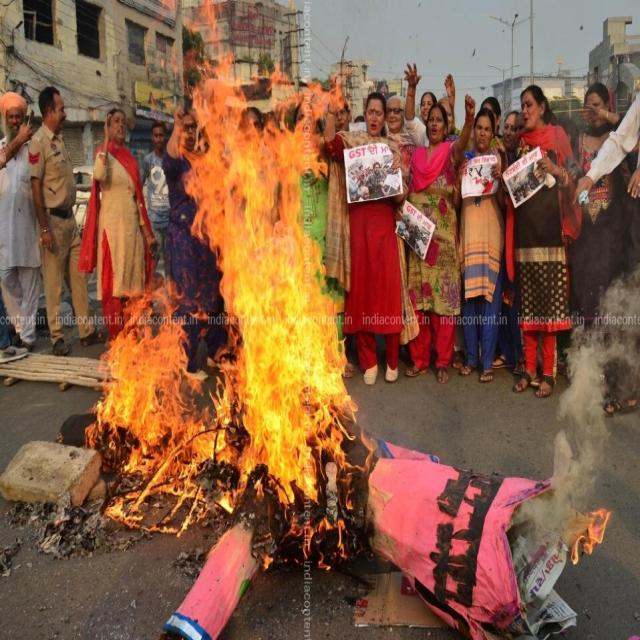fire: (184, 179, 344, 329), (203, 329, 357, 482), (84, 279, 207, 465), (146, 1, 258, 179), (258, 60, 351, 187), (100, 460, 243, 537), (243, 482, 353, 572), (570, 507, 614, 565), (345, 429, 377, 491)
